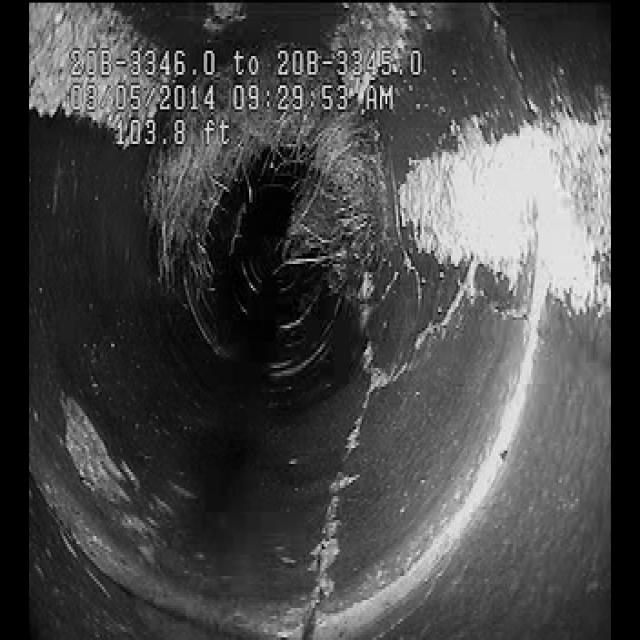Fracture: (302, 335, 435, 606)
